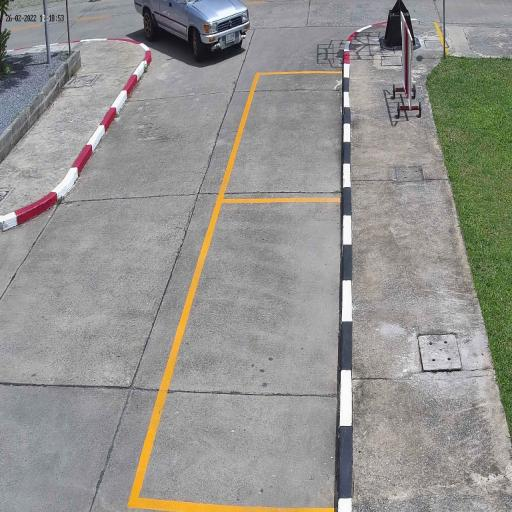car: (134, 0, 250, 64)
